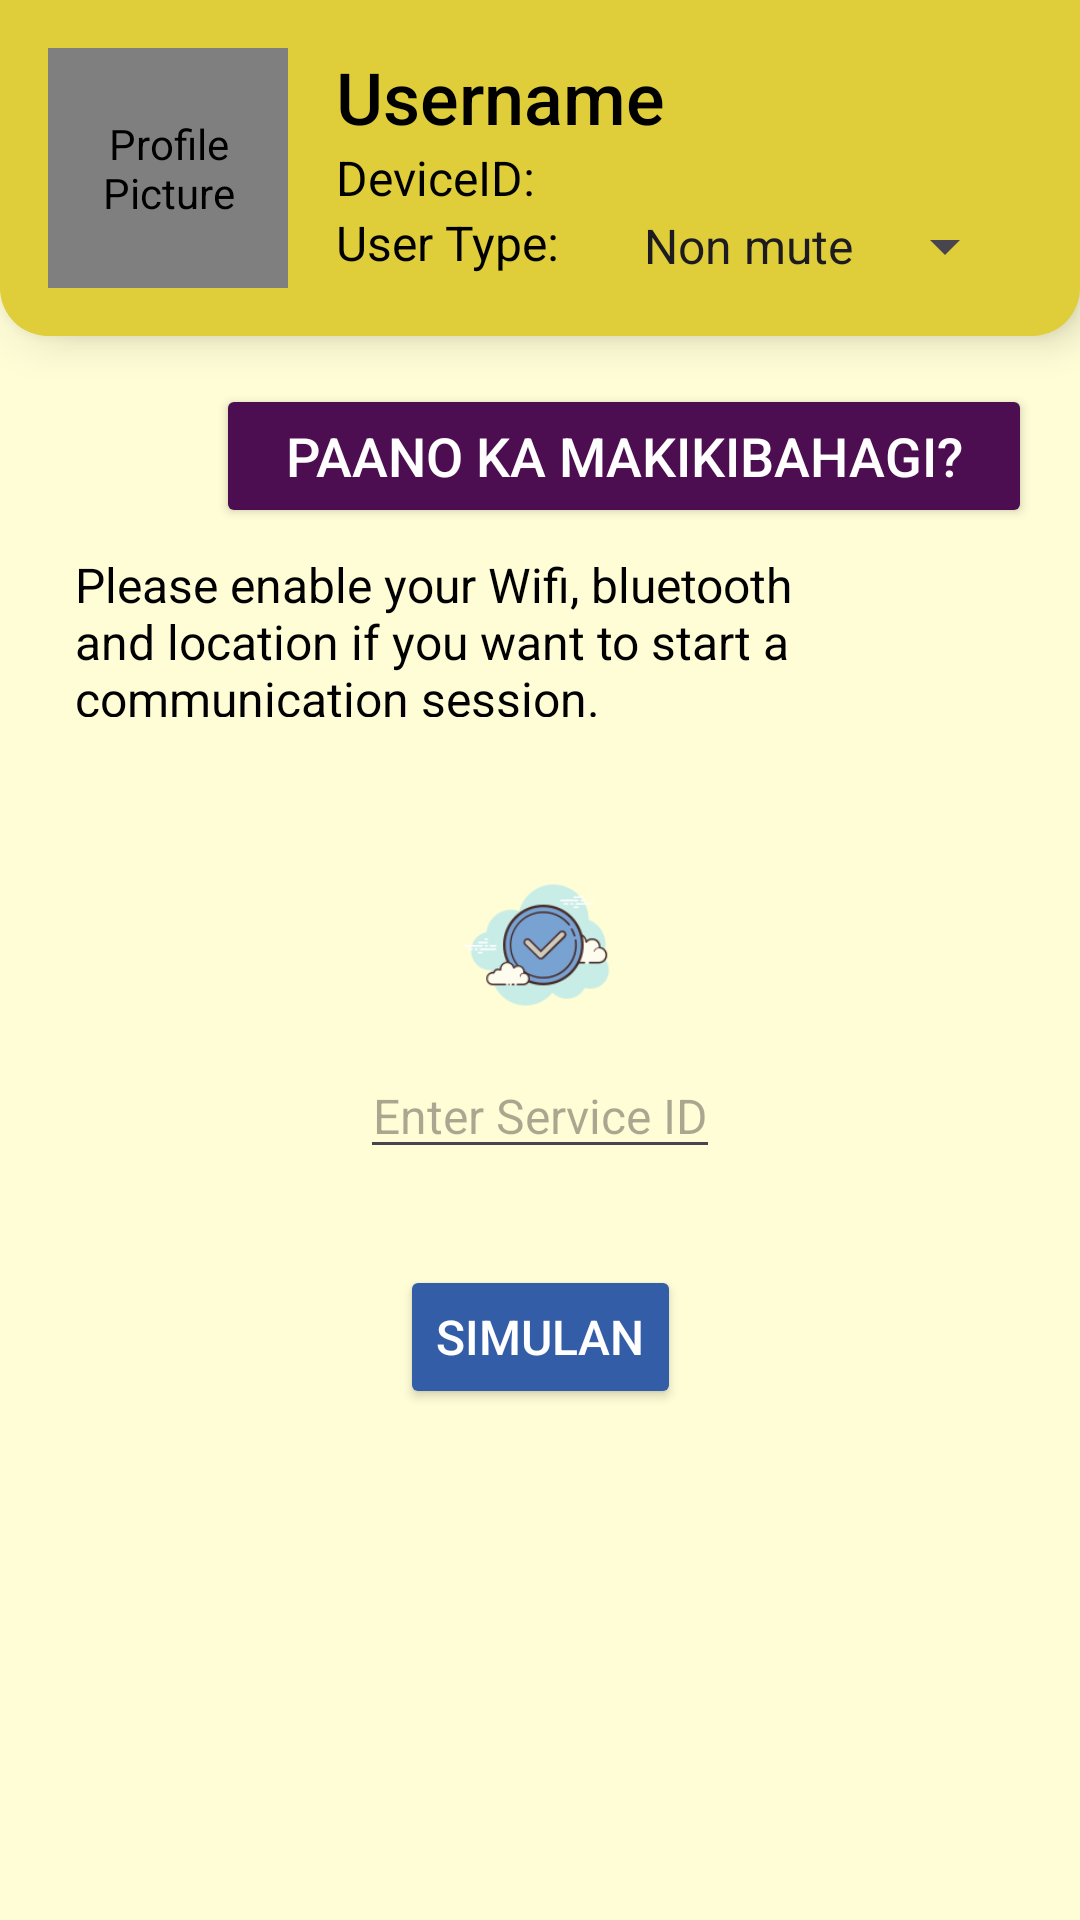

Where icons sit on this 1080 × 1920 app screen, as (x1, y1, x2, y2):
Accept Icon: (465, 884, 609, 1006)
